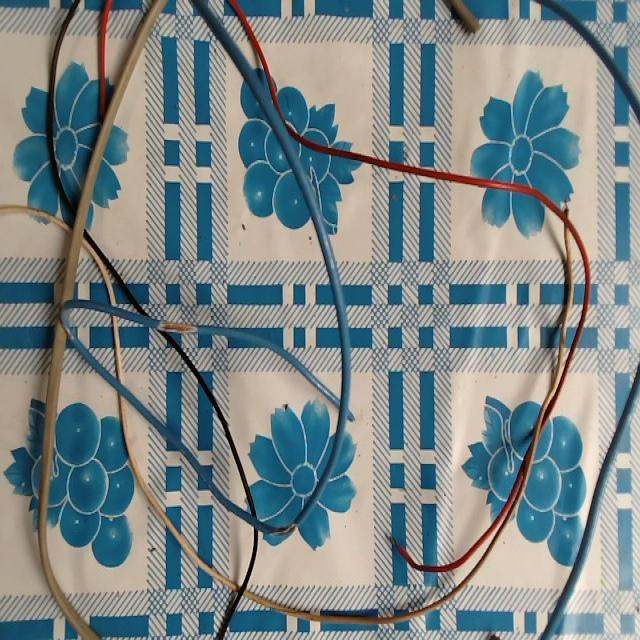-: (154, 314, 198, 342), (54, 301, 78, 340), (263, 518, 298, 542), (385, 526, 405, 558), (559, 197, 575, 216)
